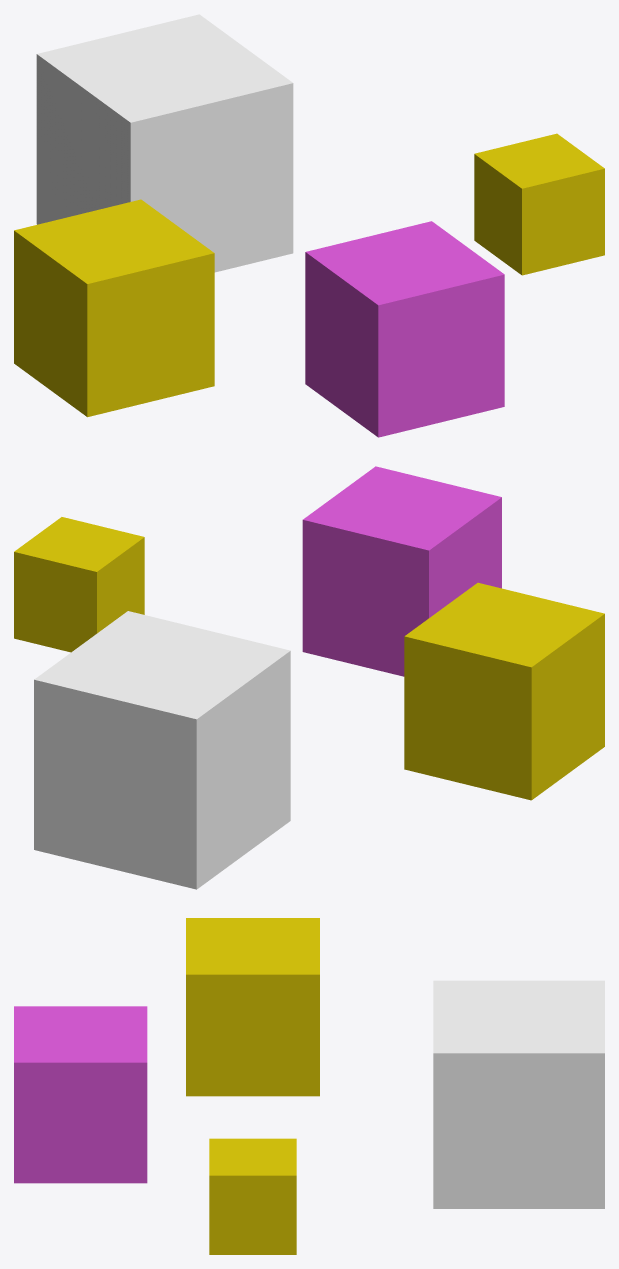
The model's file is blenderSceneX.gltf.
3 views of the same model, one above another, from view 1: azimuth 30°, elevation 25°; view 2: azimuth 150°, elevation 25°; view 3: azimuth 270°, elevation 25° (orthographic). The views are drawn at different scales.
Visible parts, largest first — view 1: Cube.001, Cube.003, Cube, Cube.002; view 2: Cube.001, Cube.003, Cube, Cube.002; view 3: Cube.001, Cube.003, Cube, Cube.002.
Part boxes in pixels (bbox=[...]): Cube.001: bbox=[36, 14, 293, 272]; Cube.003: bbox=[14, 199, 214, 417]; Cube: bbox=[305, 221, 504, 437]; Cube.002: bbox=[474, 133, 604, 275]; Cube.001: bbox=[34, 611, 290, 889]; Cube.003: bbox=[404, 582, 604, 800]; Cube: bbox=[302, 466, 501, 676]; Cube.002: bbox=[14, 517, 144, 652]; Cube.001: bbox=[433, 980, 604, 1208]; Cube.003: bbox=[186, 918, 319, 1096]; Cube: bbox=[14, 1006, 147, 1183]; Cube.002: bbox=[209, 1138, 296, 1254].
Bounding box in the file's own units: 6.52 × 2 × 6.89.
